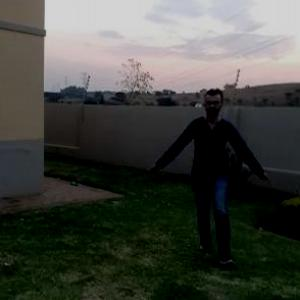land: (152, 86, 268, 267)
